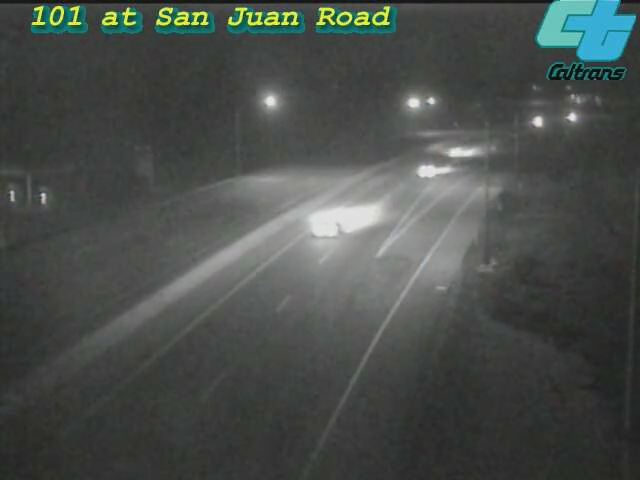vehicle: (387, 131, 467, 211), (289, 188, 369, 268), (512, 96, 562, 146), (548, 92, 598, 142), (428, 128, 478, 178)
